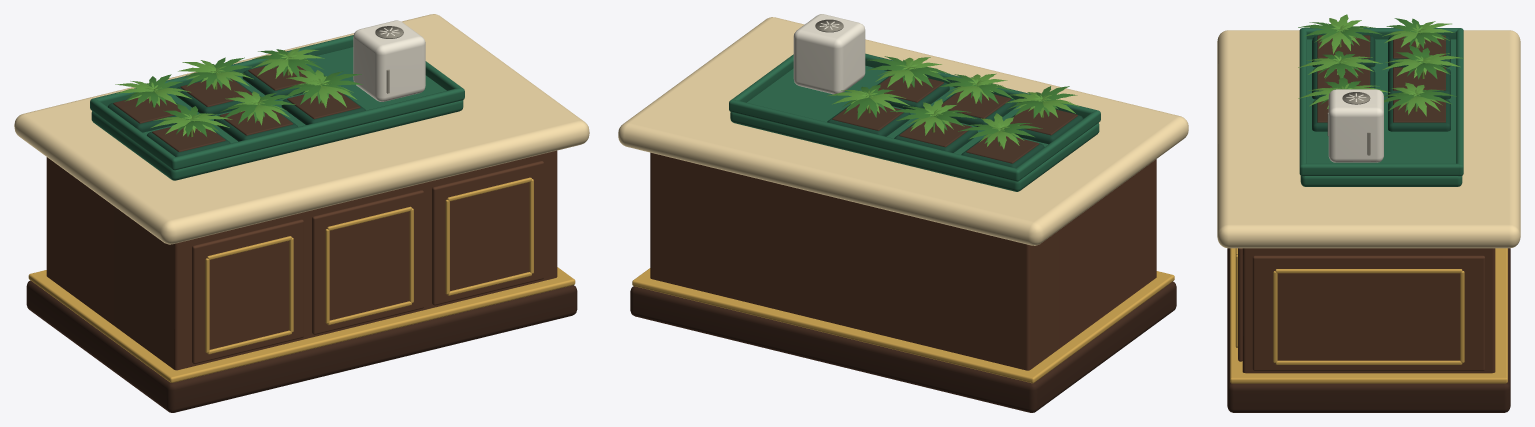
Rendered from seeds_bench.glb.
3 renders of one model, left to right at view 1: azimuth 30°, elevation 25°; view 2: azimuth 150°, elevation 25°; view 3: azimuth 270°, elevation 25°, orthographic. The views are drawn at different scales.
Visible parts, largest first — view 1: Top, Body, Plinth, Panel0, Panel1, Panel2, PlinthBrass, Tray, Humidifier, TrayRim1, TrayRim0, TrayRim3 (+10 smaller); view 2: Body, Top, Plinth, Tray, PlinthBrass, Humidifier, TrayRim0, TrayRim3, Soil10, Soil00, Soil01, Soil12 (+9 smaller); view 3: Top, EndPanel, Plinth, Tray, PlinthBrass, Body, Humidifier, TrayRim2, TrayRim0, TrayRim1, EndFrameH0.61, EndFrameH0.21 (+29 smaller).
Part boxes in pixels (left/top/right/bottom): Top: left=14, top=14, right=589, bottom=244; Body: left=46, top=150, right=557, bottom=370; Plinth: left=26, top=280, right=577, bottom=412; Panel0: left=192, top=219, right=303, bottom=363; Panel1: left=312, top=190, right=423, bottom=334; Panel2: left=432, top=161, right=543, bottom=305; PlinthBrass: left=28, top=267, right=575, bottom=382; Tray: left=91, top=47, right=463, bottom=180; Humidifier: left=353, top=20, right=425, bottom=101; TrayRim1: left=171, top=88, right=464, bottom=170; TrayRim0: left=90, top=35, right=353, bottom=109; TrayRim3: left=91, top=99, right=175, bottom=168; Body: left=650, top=152, right=1156, bottom=370; Top: left=618, top=17, right=1188, bottom=245; Plinth: left=630, top=281, right=1176, bottom=412; Tray: left=730, top=65, right=1099, bottom=191; PlinthBrass: left=632, top=268, right=1174, bottom=383; Humidifier: left=793, top=14, right=865, bottom=94; TrayRim0: left=729, top=99, right=1020, bottom=181; TrayRim3: left=1016, top=111, right=1099, bottom=179; Soil10: left=966, top=136, right=1039, bottom=163; Soil00: left=1010, top=107, right=1077, bottom=135; Soil01: left=941, top=91, right=1010, bottom=118; Soil12: left=832, top=104, right=903, bottom=130; Top: left=1217, top=30, right=1520, bottom=248; EndPanel: left=1252, top=255, right=1485, bottom=370; Plinth: left=1227, top=248, right=1510, bottom=412; Tray: left=1300, top=39, right=1462, bottom=186; PlinthBrass: left=1230, top=248, right=1507, bottom=383; Body: left=1242, top=248, right=1495, bottom=373; Humidifier: left=1328, top=89, right=1383, bottom=162; TrayRim2: left=1303, top=163, right=1459, bottom=176; TrayRim0: left=1456, top=28, right=1463, bottom=176; TrayRim1: left=1299, top=28, right=1306, bottom=176; EndFrameH0.61: left=1275, top=269, right=1462, bottom=273; EndFrameH0.21: left=1275, top=360, right=1462, bottom=364.
Bounding box in the file's own units: 1.9 × 1.13 × 1.2.
